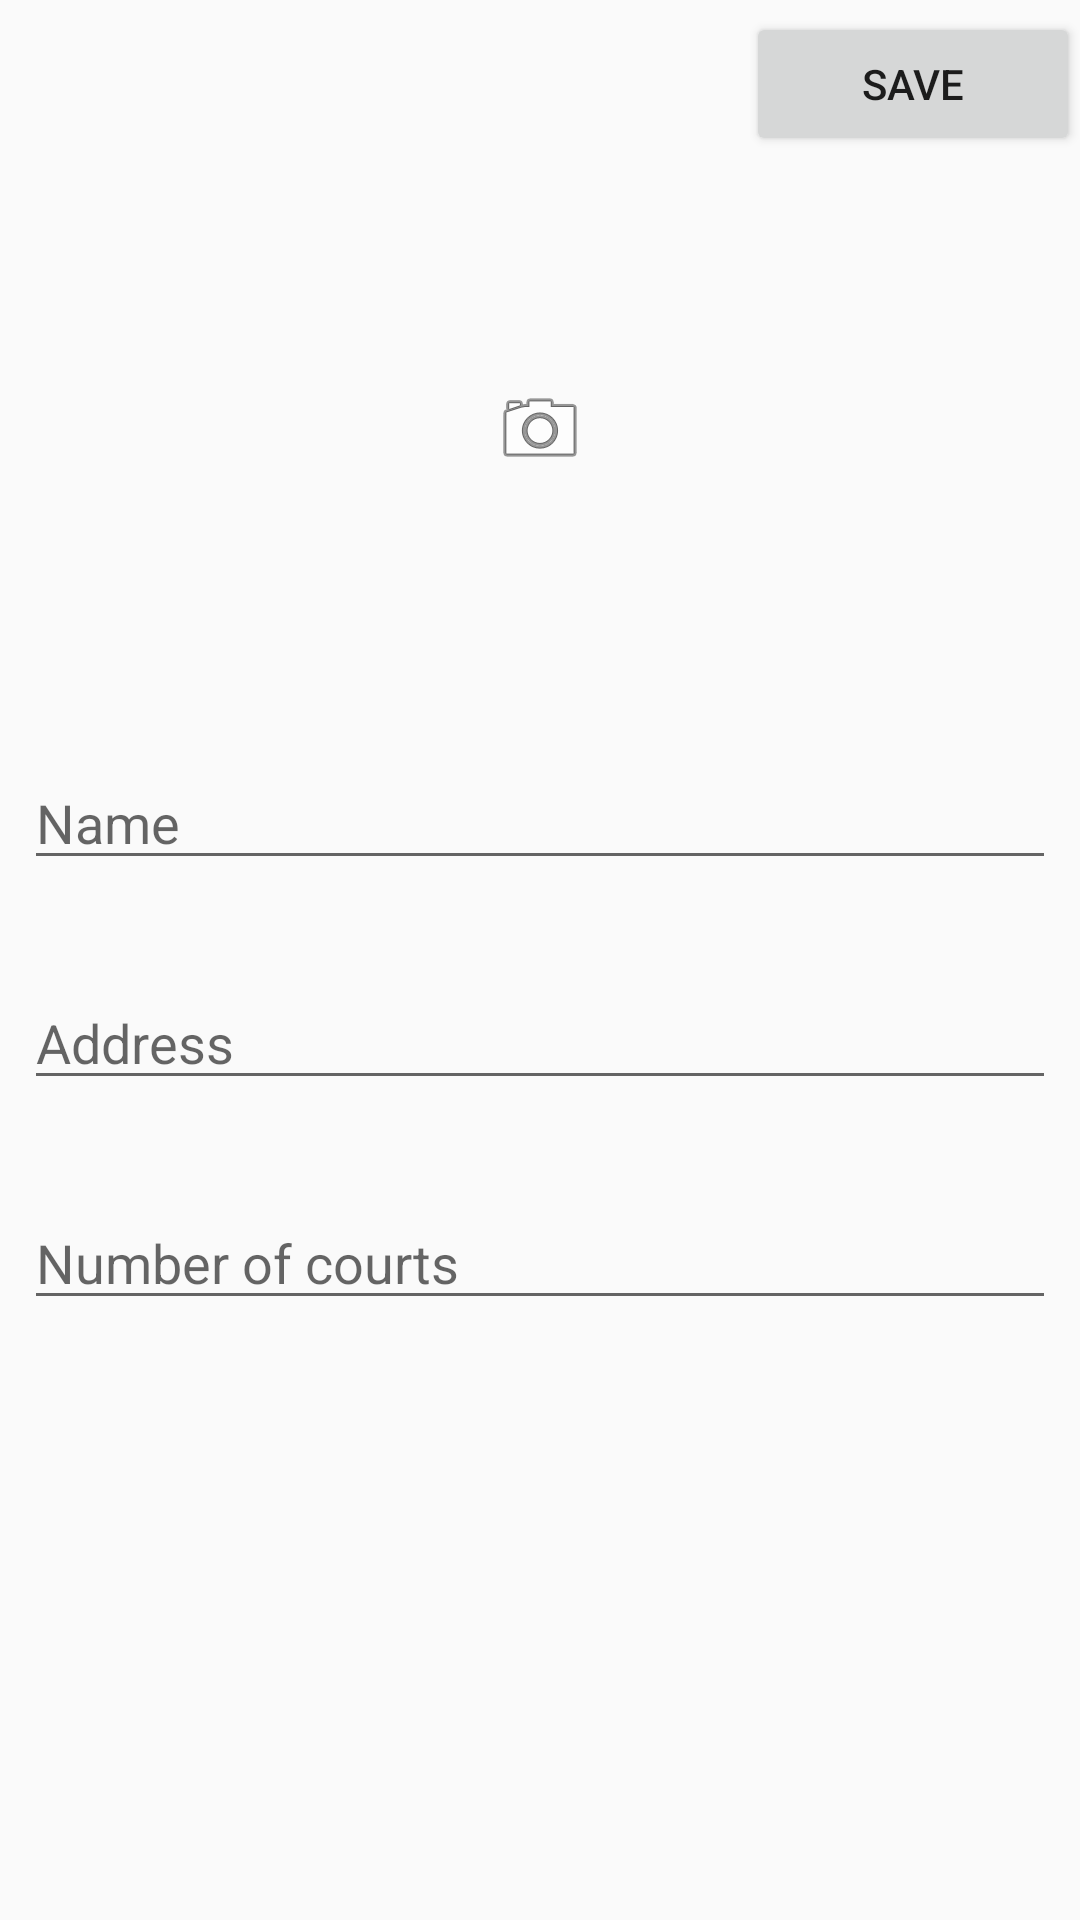

Icons on this 1080x1920 Android screen, each with its box as rect(x1, y1, x2, y2):
camera: rect(503, 398, 577, 457)
